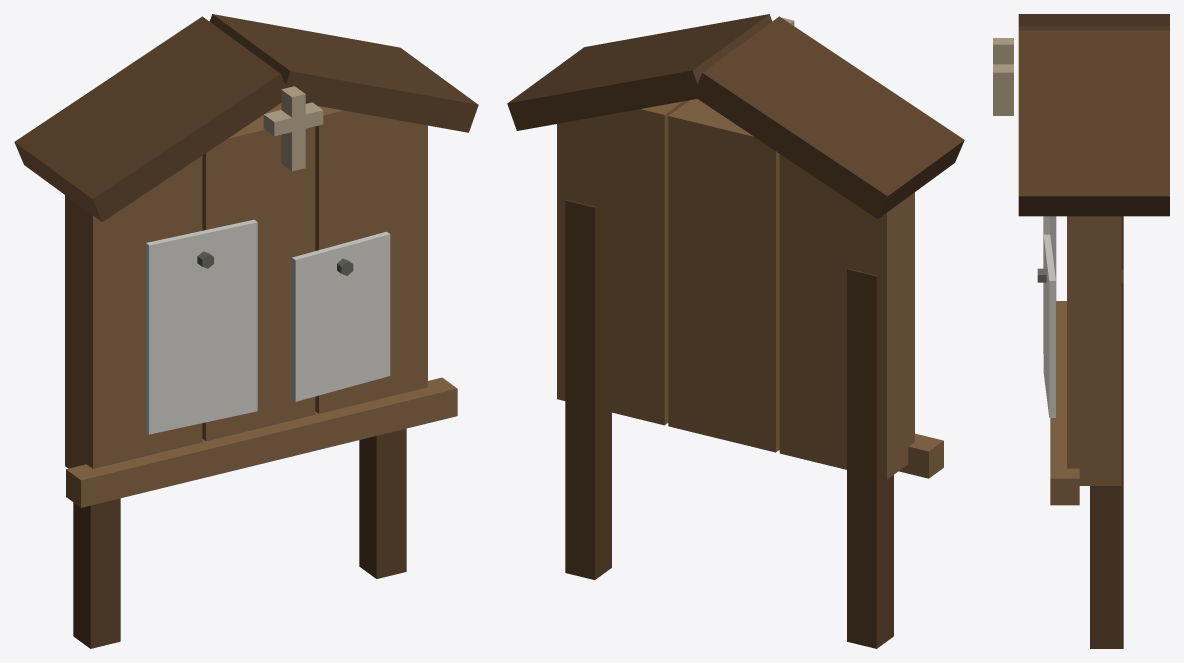
The model's file is chapel-board.glb.
The picture shows the model from 3 angles, left to right: view 1: azimuth 30°, elevation 25°; view 2: azimuth 150°, elevation 25°; view 3: azimuth 270°, elevation 25°; orthographic projection. The views are drawn at different scales.
Parts seen in each view (by area): view 1: chapel-board; view 2: chapel-board; view 3: chapel-board.
Part boxes in pixels (bbox=[...]): chapel-board: bbox=[14, 14, 478, 648]; chapel-board: bbox=[507, 14, 964, 648]; chapel-board: bbox=[993, 14, 1169, 648].
Size of the model in its own units: 0.5131 by 0.7172 by 0.2105.
